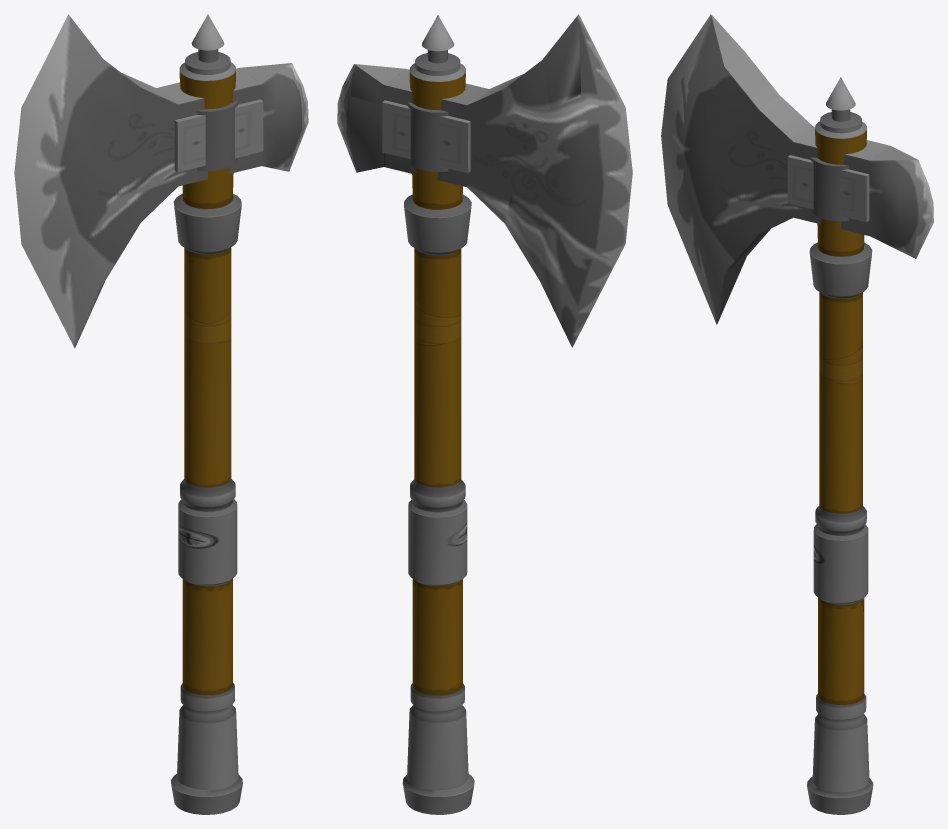
File: axe_1.glb
3 renders of one model, left to right at view 1: azimuth 30°, elevation 25°; view 2: azimuth 150°, elevation 25°; view 3: azimuth 330°, elevation 25°, orthographic. The views are drawn at different scales.
Visible parts, largest first — view 1: ef3f934c179d45d0a126819c411f3288; view 2: ef3f934c179d45d0a126819c411f3288; view 3: ef3f934c179d45d0a126819c411f3288.
Boxes of the visible parts, x1,y1,x2,y2 form: ef3f934c179d45d0a126819c411f3288: (14,14,308,814); ef3f934c179d45d0a126819c411f3288: (337,14,632,814); ef3f934c179d45d0a126819c411f3288: (661,14,933,814).
Bounding box in the file's own units: 0.3759 × 1 × 0.079.
2 materials, 2 textured.
